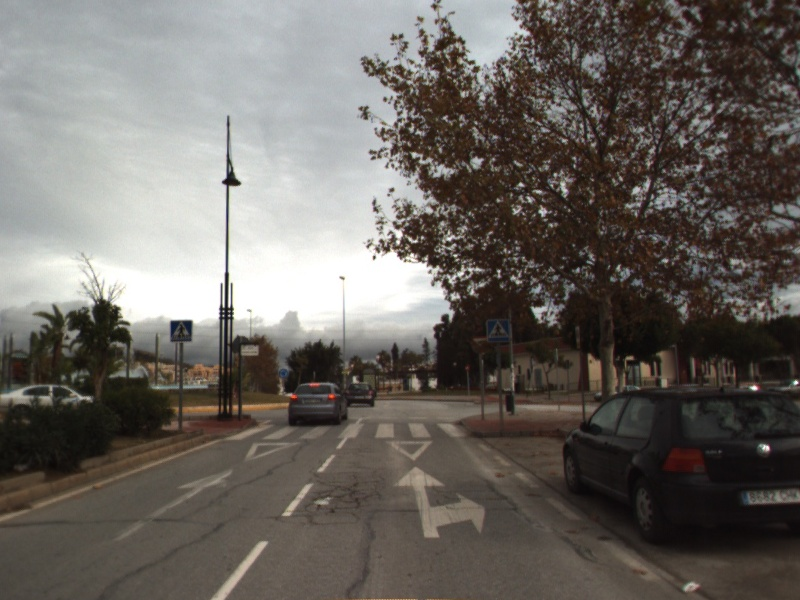STRAIGHT: (108, 466, 235, 543)
STRAIGHT_RIGHT: (390, 464, 488, 540)
